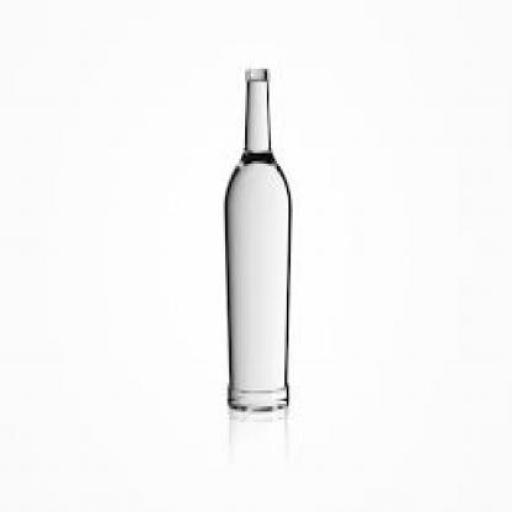glass: (223, 66, 287, 409)
